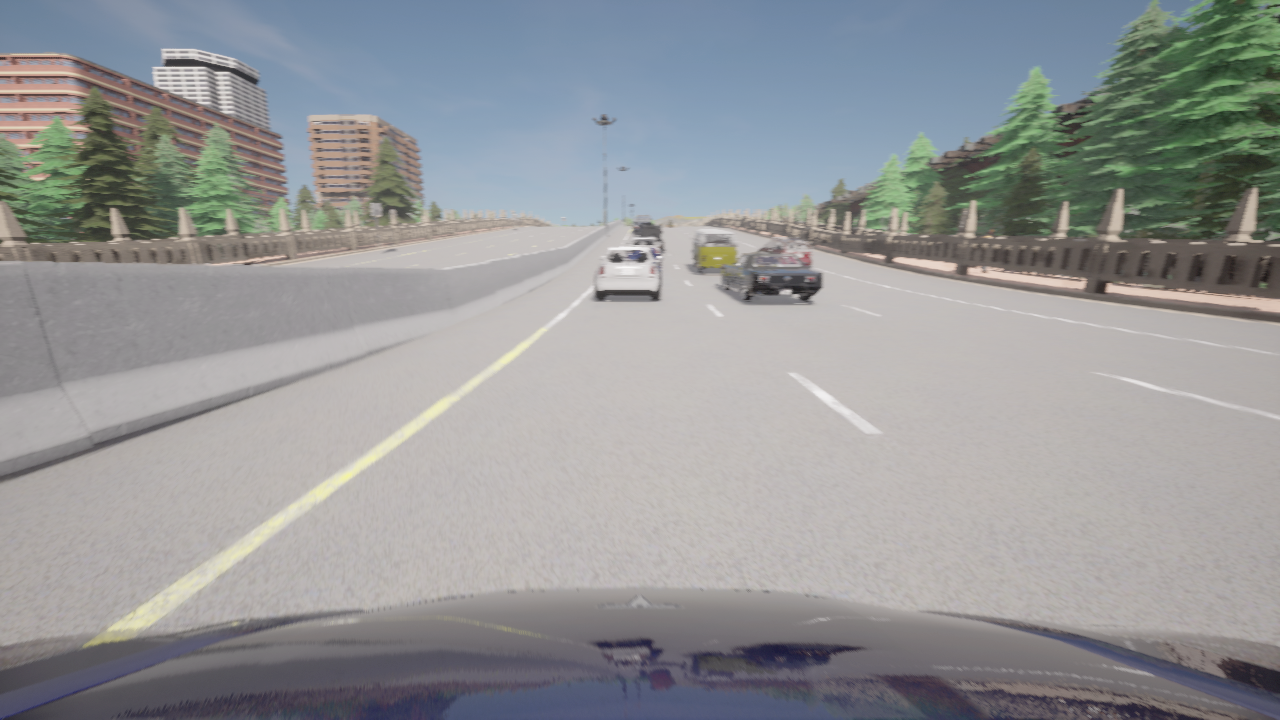cyclist: (0, 588, 1279, 719), (722, 252, 822, 300), (595, 246, 662, 299), (691, 228, 736, 272), (757, 238, 813, 268), (626, 237, 661, 263), (639, 225, 664, 252), (633, 215, 652, 232), (635, 222, 648, 235)
pedestrian: (981, 229, 992, 273)
